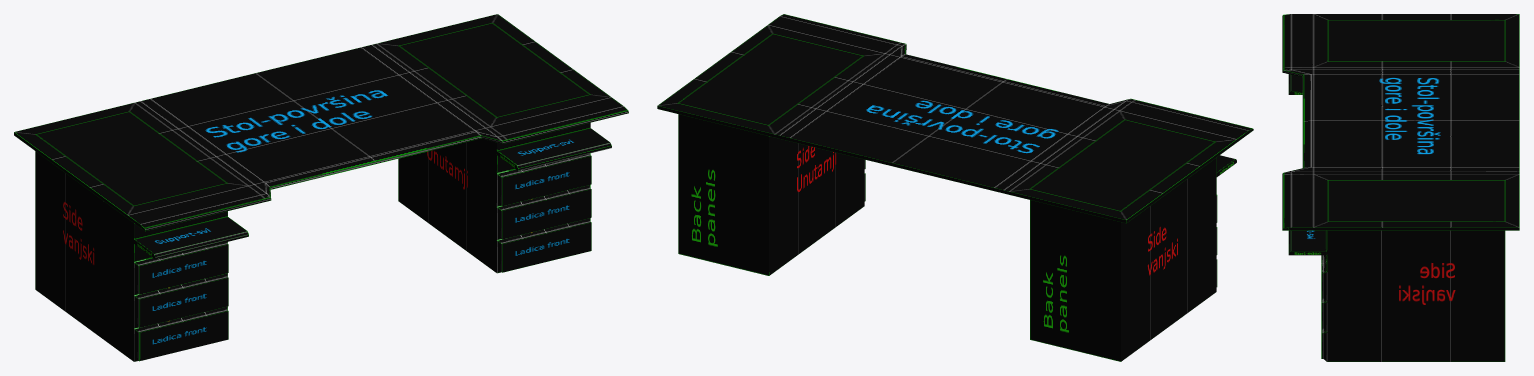
Rendered from gamer_table.FBX.
3 views of the same model, side by side, from view 1: azimuth 30°, elevation 25°; view 2: azimuth 150°, elevation 25°; view 3: azimuth 270°, elevation 25° (orthographic). The views are drawn at different scales.
Parts seen in each view (by area): view 1: stol; view 2: stol; view 3: stol.
Part boxes in pixels (bbox=[...]): stol: bbox=[14, 14, 628, 361]; stol: bbox=[657, 14, 1253, 361]; stol: bbox=[1282, 14, 1519, 361].
Size of the model in its own units: 109 by 51.1 by 33.4.
1 material, 1 textured.
